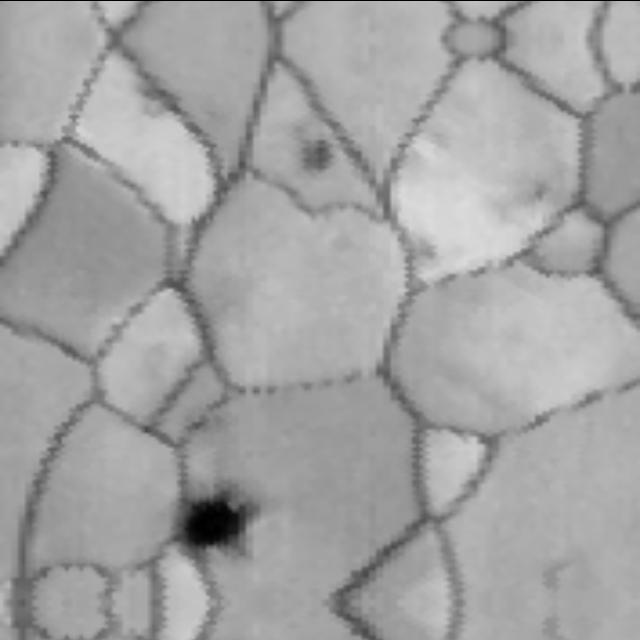good_void: (174, 479, 258, 571), (484, 161, 563, 225), (128, 62, 187, 126), (291, 124, 342, 180), (403, 223, 442, 264)
